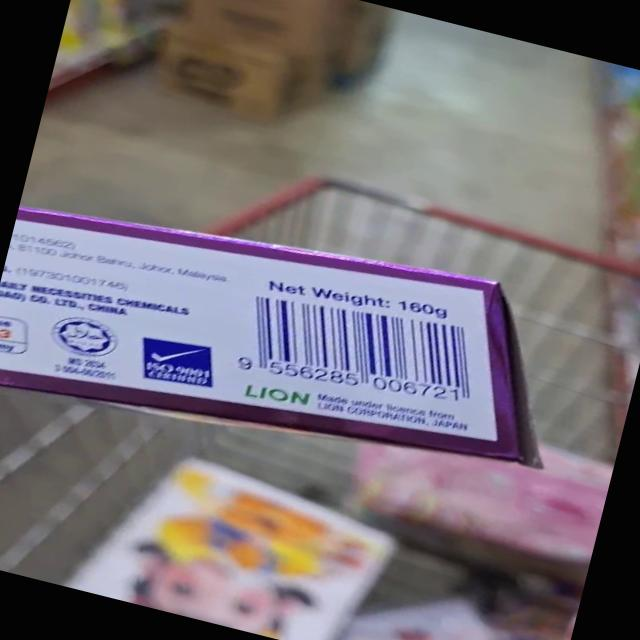Tisu: (79, 431, 410, 640)
Ubat Gigi: (0, 181, 598, 500)
